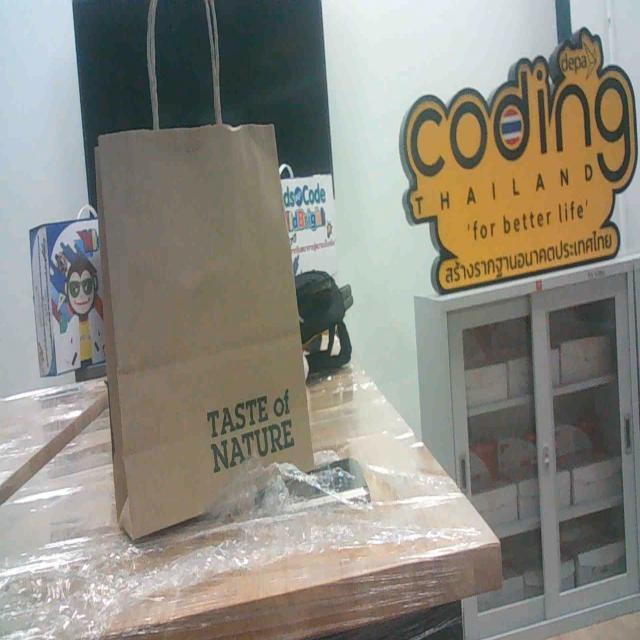bag: (87, 115, 322, 498)
